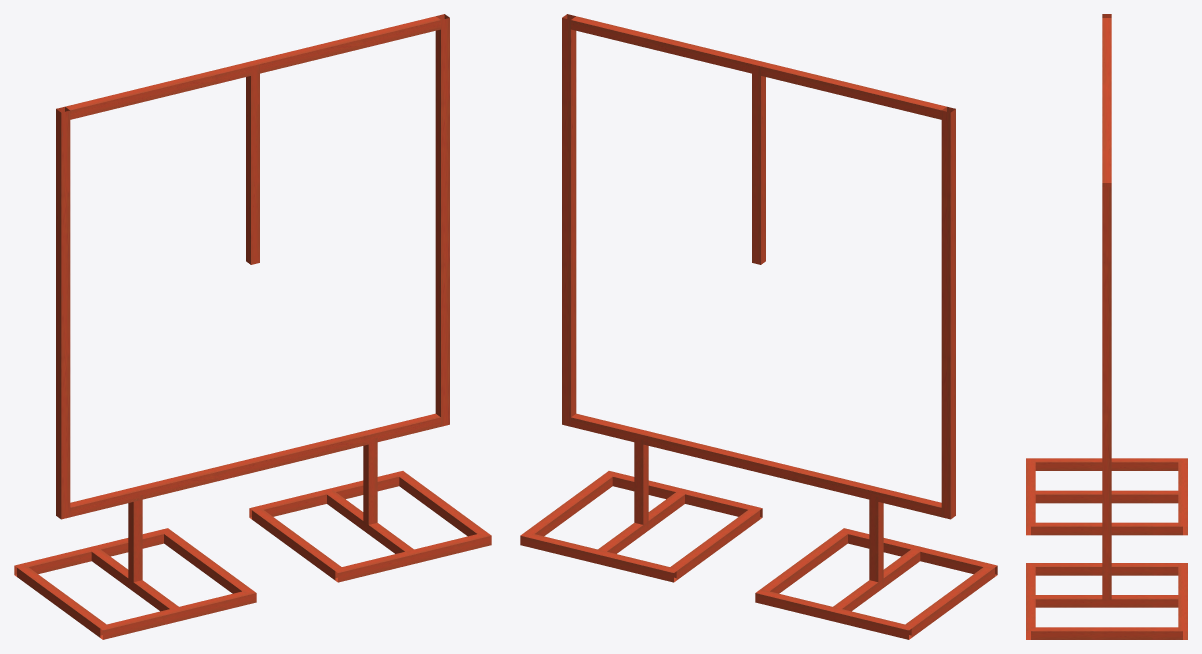
File: dynamic_gate_2018.dae
3 views of the same model, side by side, from view 1: azimuth 30°, elevation 25°; view 2: azimuth 150°, elevation 25°; view 3: azimuth 270°, elevation 25° (orthographic). The views are drawn at different scales.
Visible parts, largest first — view 1: flc_002; view 2: flc_002; view 3: flc_002.
Part boxes in pixels (box(x1,y1,x2,y2)): flc_002: box(14, 14, 491, 639); flc_002: box(520, 14, 997, 639); flc_002: box(1026, 14, 1187, 639).
Bounding box in the file's own units: 2.15 × 0.85 × 2.62.
Materials: 1 (1 with a texture image).
